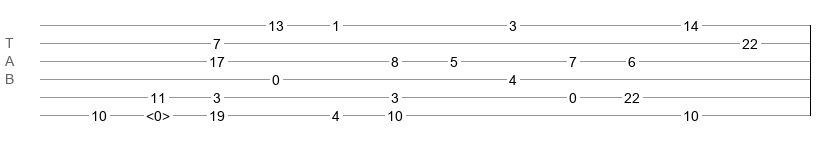0: (272, 72, 280, 82), (569, 90, 577, 100)
1: (332, 18, 340, 28)
10: (91, 108, 107, 118), (387, 108, 403, 118), (683, 108, 699, 118)
11: (150, 90, 166, 100)
13: (268, 18, 284, 28)
14: (683, 18, 699, 28)
17: (209, 54, 225, 64)
19: (209, 108, 225, 118)
22: (624, 90, 640, 100), (742, 36, 758, 46)
3: (213, 90, 221, 100), (391, 90, 399, 100), (509, 18, 517, 28)
4: (332, 108, 340, 118), (509, 72, 517, 82)
5: (450, 54, 458, 64)
6: (628, 54, 636, 64)
7: (213, 36, 221, 46), (569, 54, 577, 64)
8: (391, 54, 399, 64)
harmonic: (146, 108, 170, 118)
